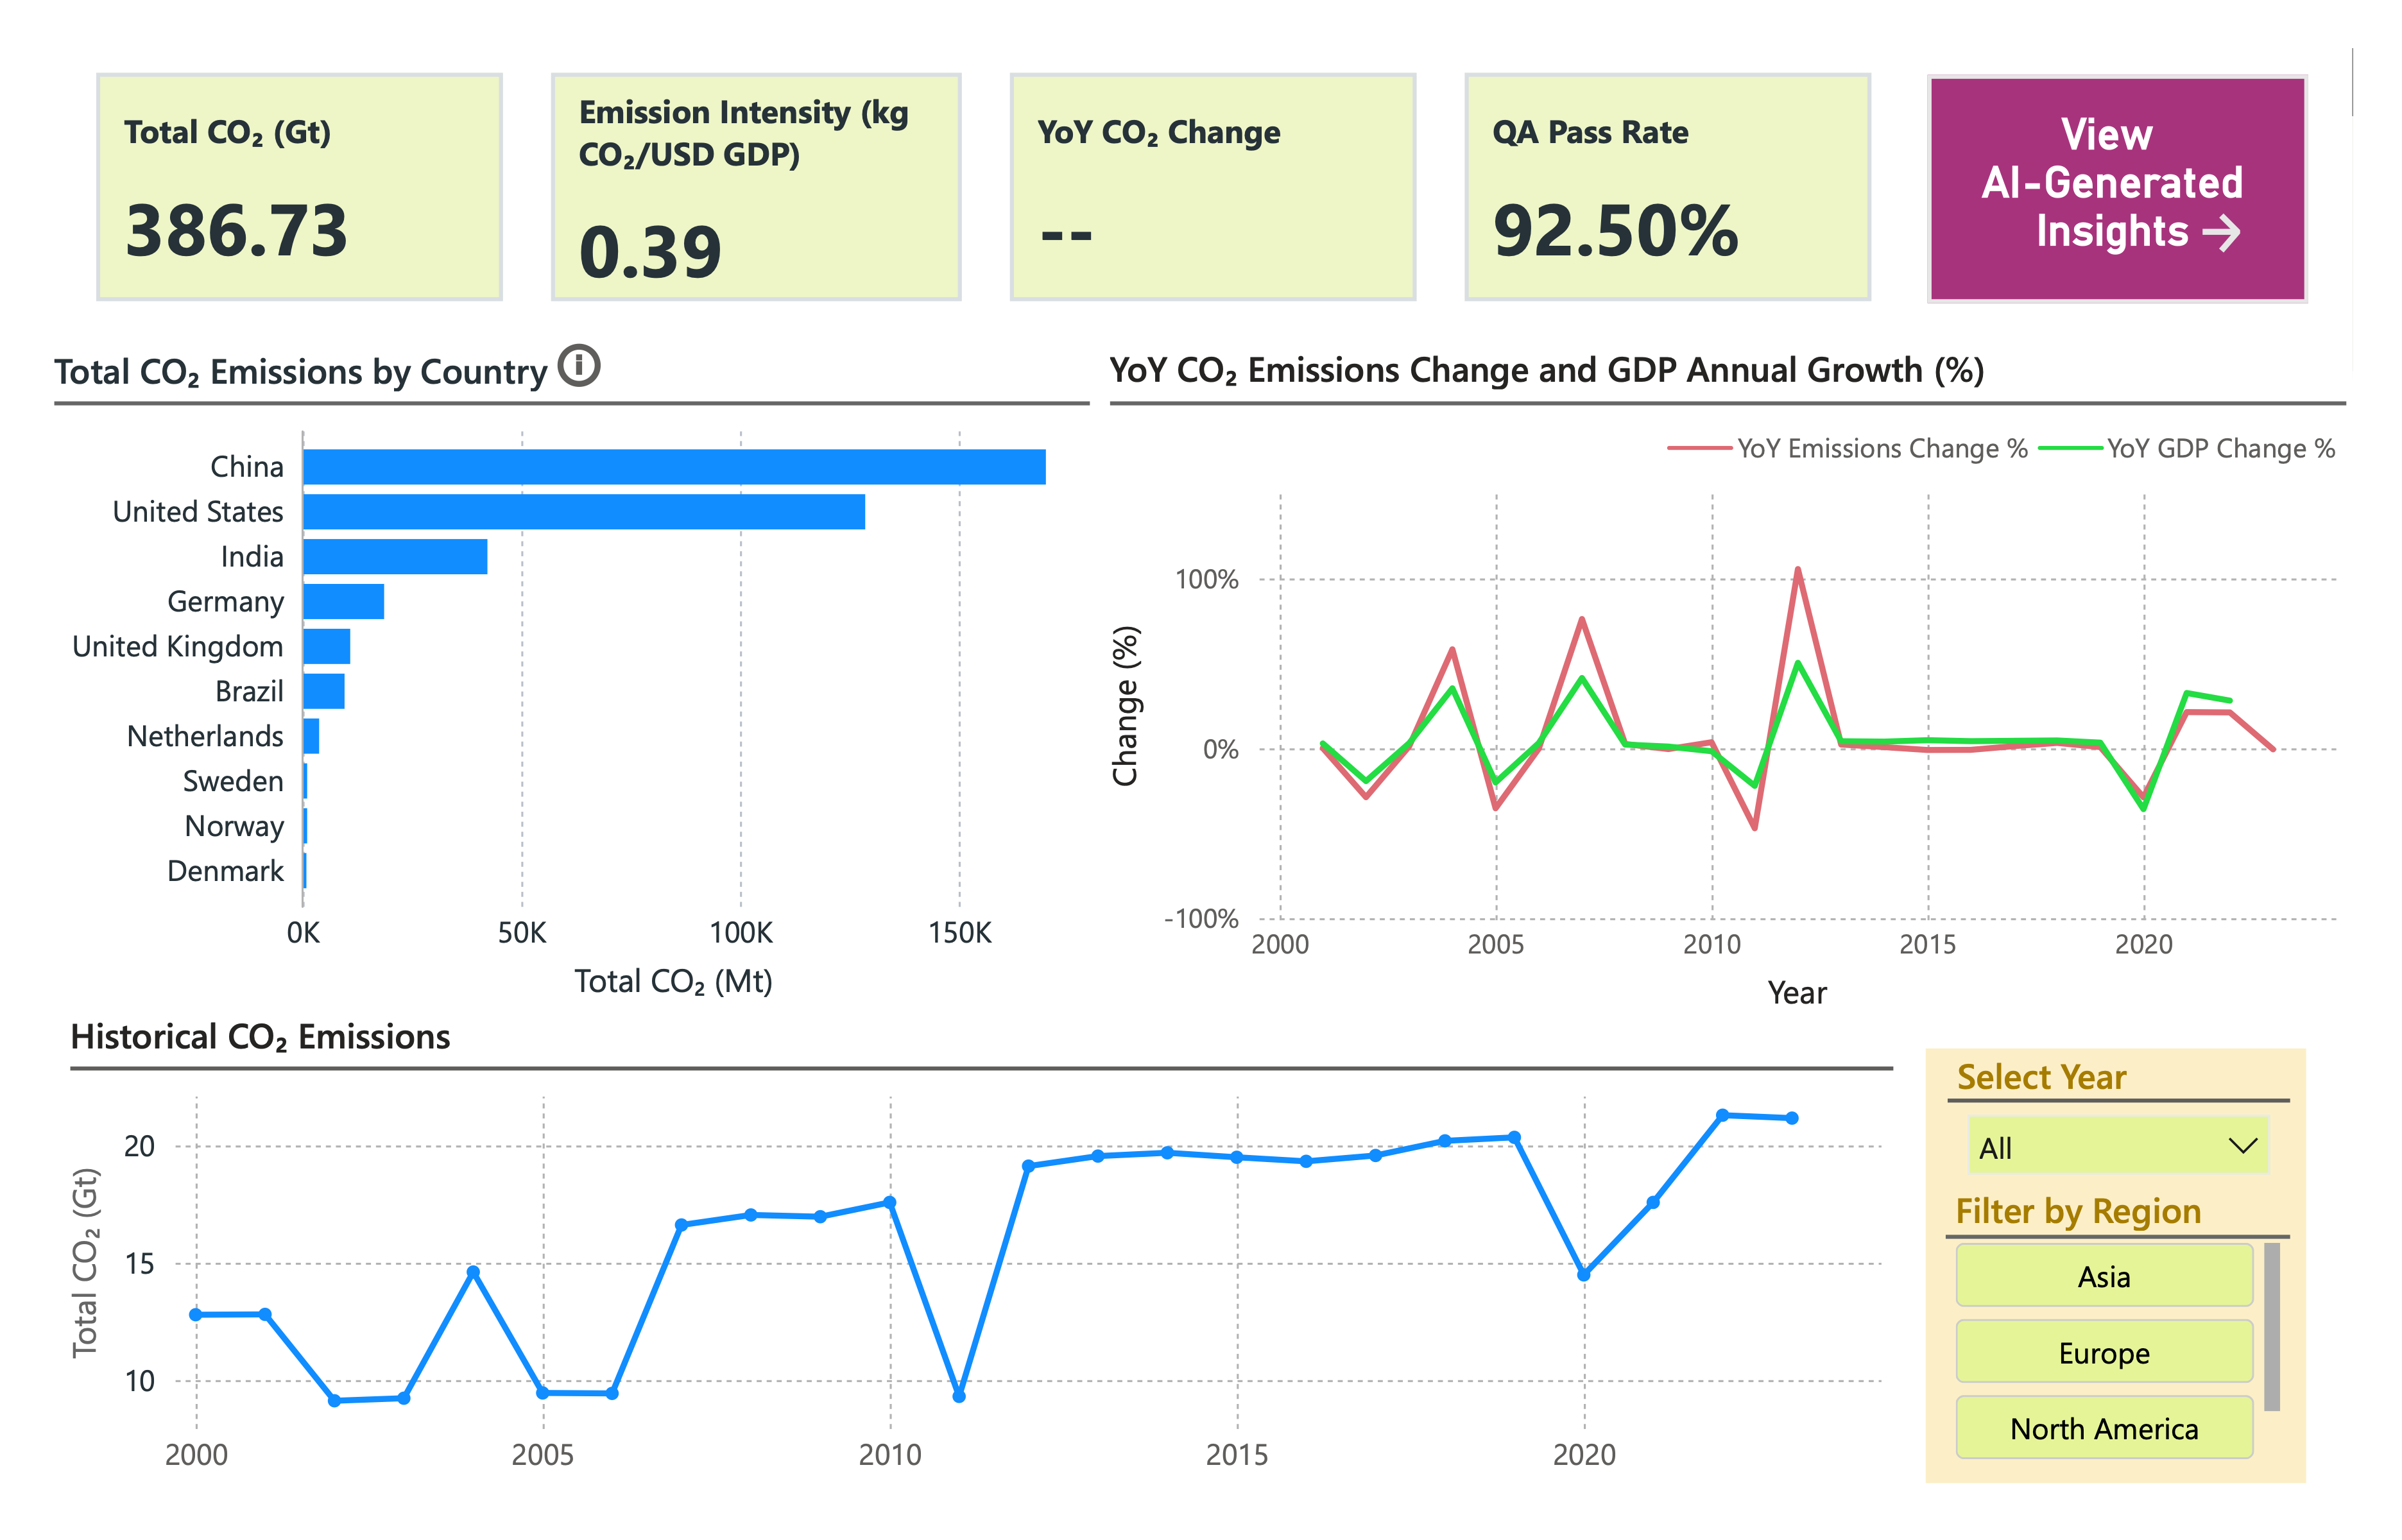

The dashboard page shown, as its layout file describes it:
{"tool":"powerbi","page":{"name":"Executive Overview","canvas":[1150,720],"ordinal":0},"visuals":[{"type":"clusteredBarChart","title":"Total CO₂ Emissions by Country","fields":{"Category":["DIM_ENTITY.entity_name"],"Y":["_Measure.Total CO2 (Mt)"]},"box":[3.3,141.7,516.7,343.3],"z":0},{"type":"actionButton","box":[250,143.3,41.7,30],"z":1000},{"type":"shape","box":[937.1,498.6,190,217.1],"z":1500,"group":"g1"},{"type":"cardVisual","fields":{"Data":["_Measure.YoY Emissions Change %"]},"box":[467.3,0,227.2,138.3],"z":2000,"group":"g2"},{"type":"lineChart","title":"YoY CO₂ Emissions Change and GDP Annual Growth (%)","fields":{"Category":["DIM_DATE.year"],"Y":["_Measure.YoY Emissions Change %","_Measure.YoY GDP Change %"]},"box":[521.7,146.7,626.7,335],"z":2000},{"type":"group","id":"g1","title":"Group 2","box":[937.1,498.6,190,217.1],"z":3000},{"type":"advancedSlicerVisual","title":"Filter by Region","fields":{"Values":["DIM_ENTITY.region"]},"box":[947.4,566.8,171.9,143.4],"z":3000,"group":"g1"},{"type":"cardVisual","fields":{"Data":["_Measure.Emissions Intensity (kg/USD)"]},"box":[238.9,0,228.4,138.3],"z":4000,"group":"g2"},{"type":"lineChart","title":"Historical CO₂ Emissions","fields":{"Category":["DIM_DATE.year"],"Y":["_Measure.Total CO2 (Gt)"]},"box":[11.4,480,910,238.6],"z":4000},{"type":"group","id":"g2","title":"Group 1","box":[11.7,0,910,138.3],"z":5000},{"type":"cardVisual","fields":{"Data":["_Measure.Validity %"]},"box":[694.5,0,227.2,138.3],"z":5000,"group":"g2"},{"type":"slicer","title":"Select Year","fields":{"Values":["DIM_DATE.year"]},"box":[947.7,499.9,171.9,65.7],"z":5000,"group":"g1"},{"type":"cardVisual","title":"Total CO₂ (Mt CO₂)","fields":{"Data":["_Measure.Total CO2 (Gt)"]},"box":[11.7,0,227.2,138.3],"z":5500,"group":"g2"},{"type":"textbox","box":[938.3,13.3,190,113.3],"z":6000},{"type":"actionButton","box":[1063.3,63.3,76.7,58.3],"z":7000}]}

Visuals, with their boxes on the page's 1150x720 design canvas (x1, y1, x2, y2). These are canvas units, not pixel positions in the 2402x1540 screenshot, which may show the page scaled, cropped or inside an application window:
"Total CO₂ Emissions by Country" clusteredBarChart: [x1=3, y1=142, x2=520, y2=485]
actionButton: [x1=250, y1=143, x2=292, y2=173]
shape: [x1=937, y1=499, x2=1127, y2=716]
cardVisual - _Measure.YoY Emissions Change %: [x1=467, y1=0, x2=694, y2=138]
"YoY CO₂ Emissions Change and GDP Annual Growth (%)" lineChart: [x1=522, y1=147, x2=1148, y2=482]
"Group 2" group: [x1=937, y1=499, x2=1127, y2=716]
"Filter by Region" advancedSlicerVisual: [x1=947, y1=567, x2=1119, y2=710]
cardVisual - _Measure.Emissions Intensity (kg/USD): [x1=239, y1=0, x2=467, y2=138]
"Historical CO₂ Emissions" lineChart: [x1=11, y1=480, x2=921, y2=719]
"Group 1" group: [x1=12, y1=0, x2=922, y2=138]
cardVisual - _Measure.Validity %: [x1=694, y1=0, x2=922, y2=138]
"Select Year" slicer: [x1=948, y1=500, x2=1120, y2=566]
"Total CO₂ (Mt CO₂)" cardVisual: [x1=12, y1=0, x2=239, y2=138]
textbox: [x1=938, y1=13, x2=1128, y2=127]
actionButton: [x1=1063, y1=63, x2=1140, y2=122]
